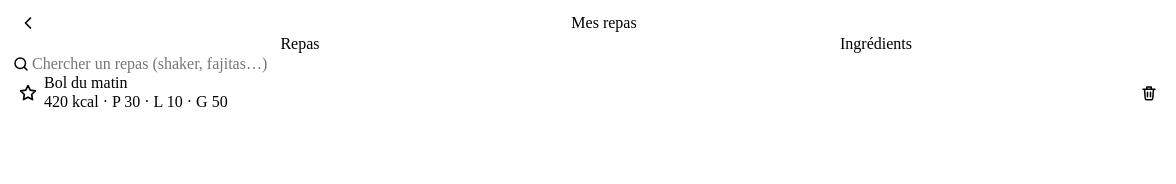
Mes repas (Gérer) — Ingrédients › lists every ingredient in its own tab, filtered by the search
Check: the text "Bol du matin" is shown, box left=44, top=74, right=128, bottom=92
Click the button "Ingrédients".
click(876, 44)  # box left=588, top=34, right=1164, bottom=54
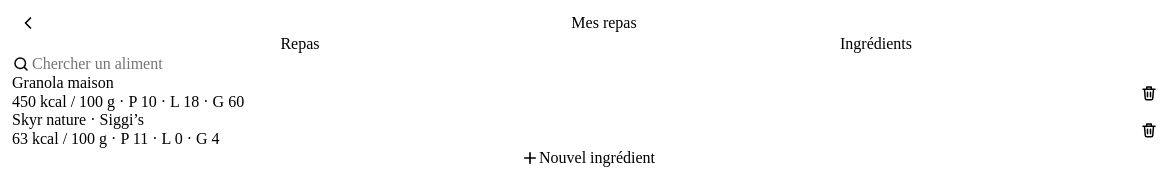
Check: the text "Granola maison" is shown, box left=12, top=74, right=114, bottom=92
Check: the button "Bol du matin" is gone
Check: the text "63 kcal / 100 g · P 11 · L 0 · G 4" is shown, box left=12, top=130, right=220, bottom=148
Type "siggi" into the search field labelled "Chercher un aliment".
click(597, 64); type("siggi")  # box left=30, top=54, right=1164, bottom=74
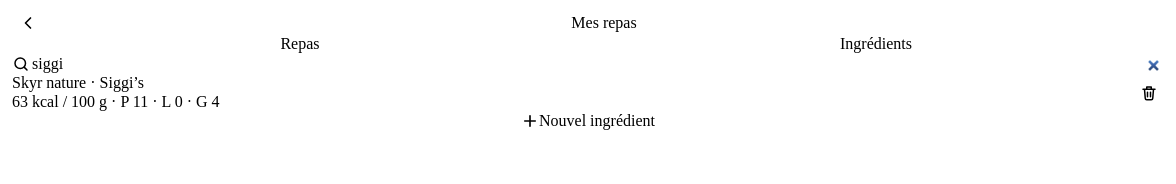
Check: the text "Skyr nature" is shown, box left=12, top=74, right=86, bottom=91
Check: the button "Granola maison" is gone
Click the button "Repas".
click(300, 44)  # box left=12, top=34, right=588, bottom=54
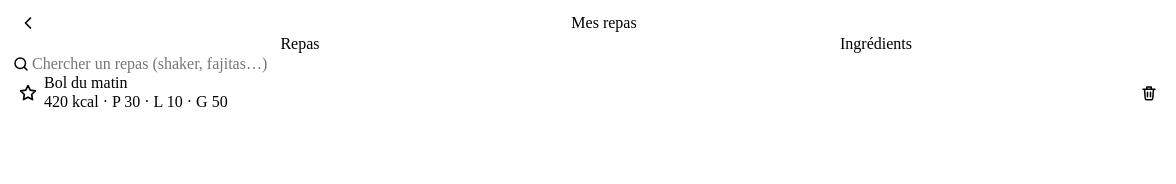
Check: the text "Bol du matin" is shown, box left=44, top=74, right=128, bottom=92
